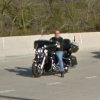Motorcycle: (24, 30, 83, 79)
